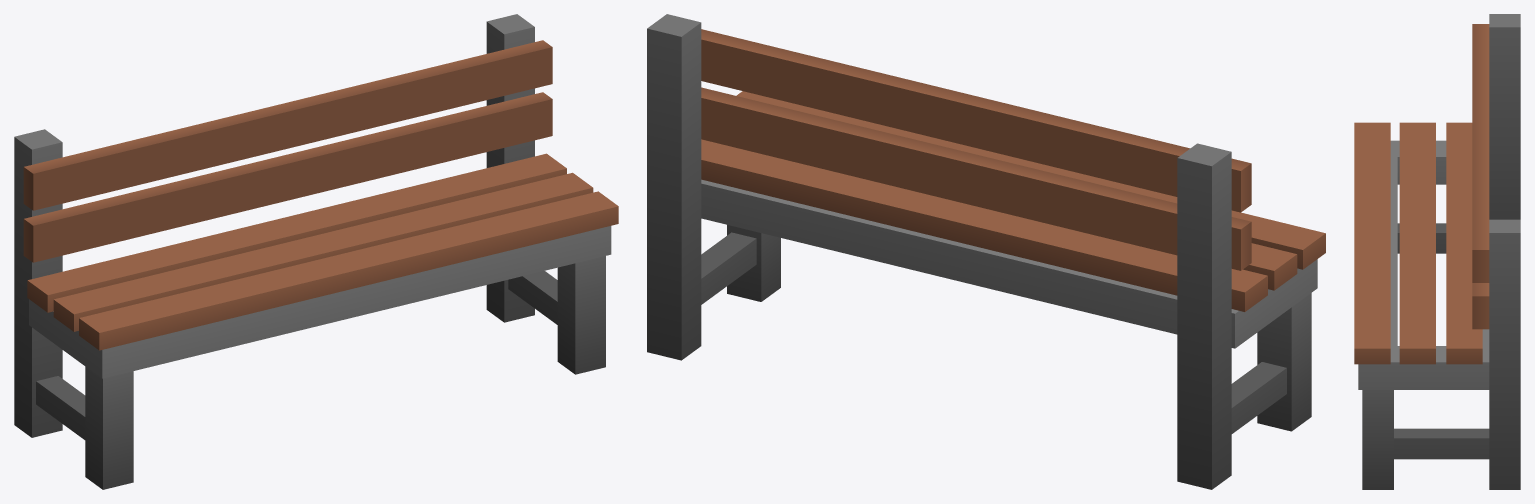
File: bench.fbx
The picture shows the model from 3 angles, left to right: view 1: azimuth 30°, elevation 25°; view 2: azimuth 150°, elevation 25°; view 3: azimuth 270°, elevation 25°; orthographic projection. The views are drawn at different scales.
Visible parts, largest first — view 1: bench; view 2: bench; view 3: bench.
Part boxes in pixels (box(x1,y1,x2,y2)): bench: box(14, 14, 618, 489); bench: box(647, 14, 1325, 489); bench: box(1354, 14, 1520, 489).
Bounding box in the file's own units: 187 × 99.35 × 58.32.
